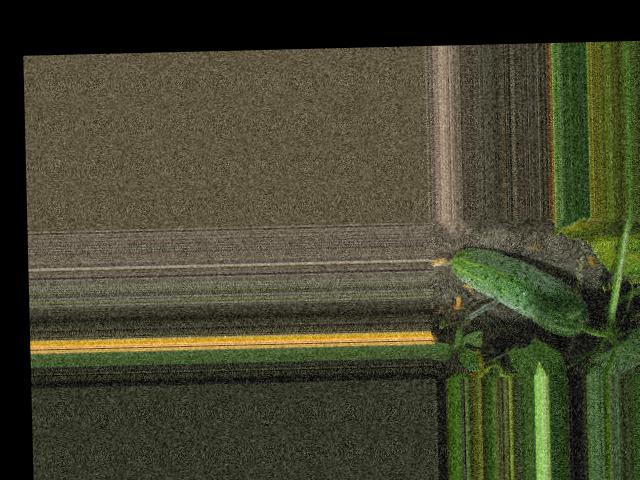cucumber: (429, 243, 589, 339)
